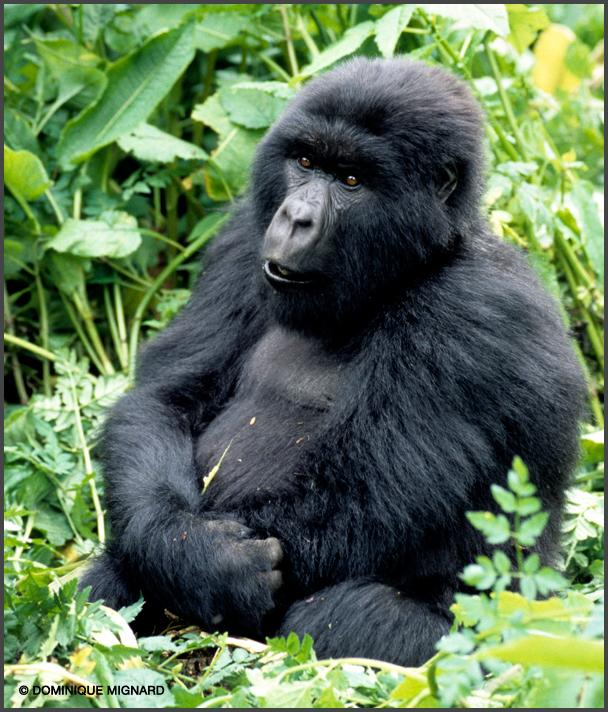goriile_montagne: (84, 5, 580, 676)
